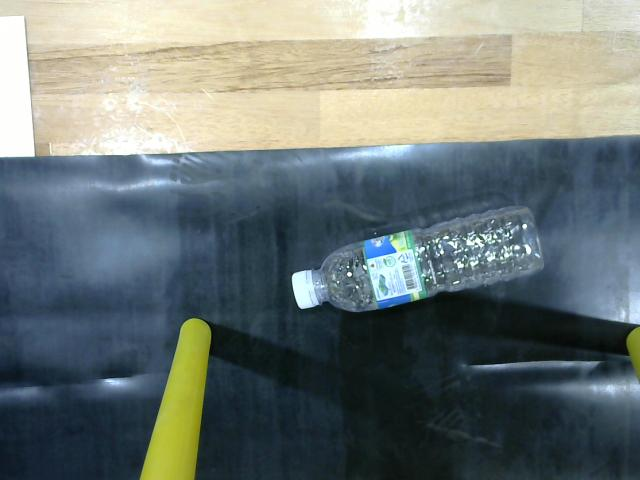bottle: (284, 192, 549, 322)
